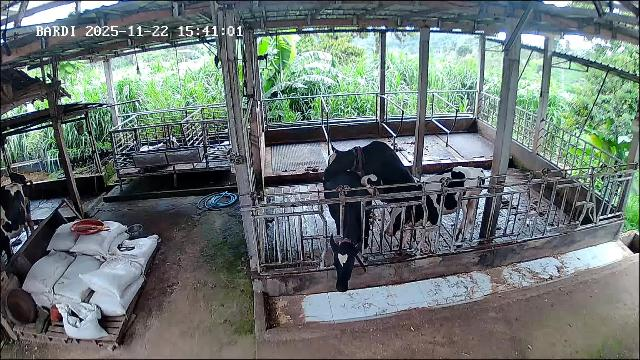mounting: (322, 138, 417, 198)
